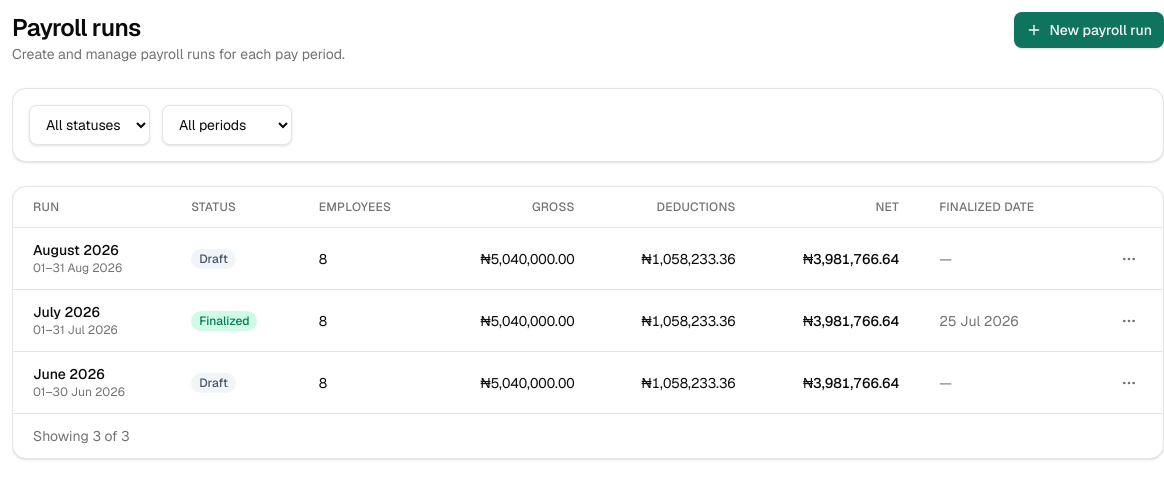
Scenario: payroll runs list › filters by status
Select "Finalized" in the dropdown named "Filter runs by status" at (90, 125), box [29,105,150,145]
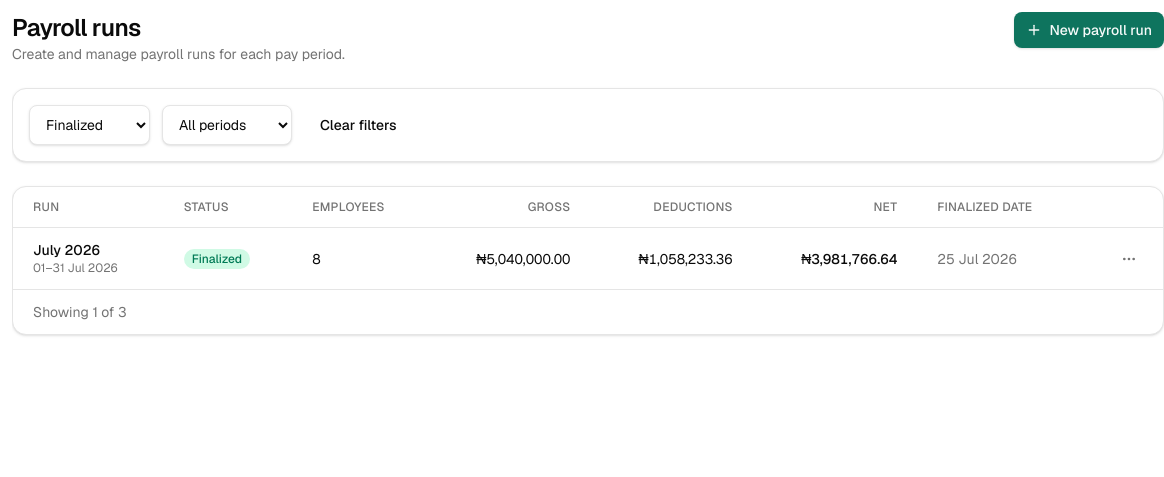
Check: the text "July 2026" is shown, box [33,241,100,259]
Check: the button "August 2026" is gone
Check: the text "Showing 1 of 3" is shown, box [33,303,126,321]
